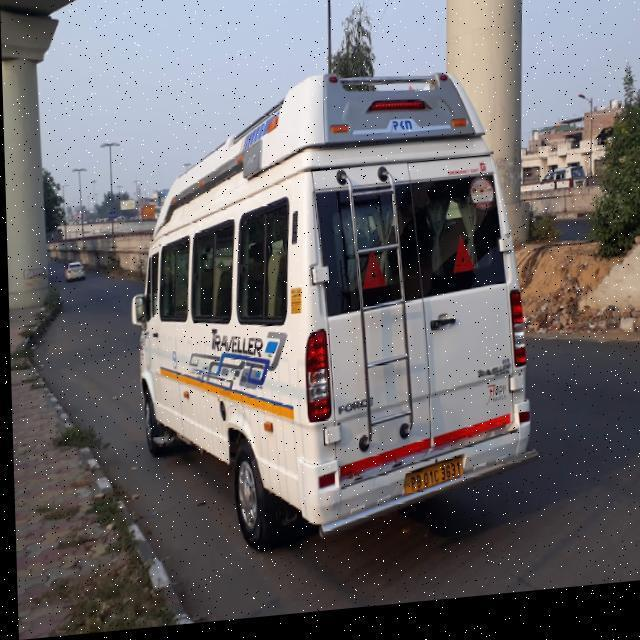Ambulance: (22, 213, 640, 637), (122, 62, 536, 566), (59, 259, 86, 287)
